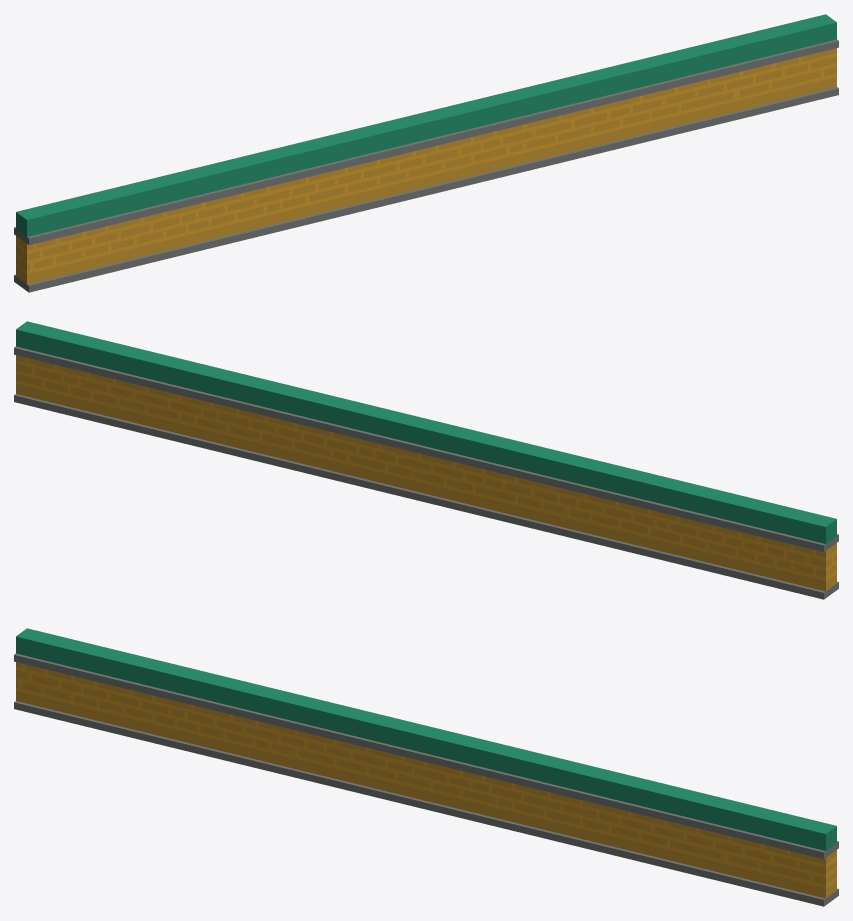
File: Pared 2.glb
3 renders of one model, top to bottom at view 1: azimuth 30°, elevation 25°; view 2: azimuth 150°, elevation 25°; view 3: azimuth 330°, elevation 25°, orthographic.
Parts seen in each view (by area): view 1: paredes.001; view 2: paredes.001; view 3: paredes.001.
Boxes of the visible parts, left/top/right/bottom form: paredes.001: left=14, top=14, right=838, bottom=292; paredes.001: left=14, top=321, right=838, bottom=599; paredes.001: left=14, top=628, right=838, bottom=906.
Size of what is drawn, in the model's own units: 25 by 2.1 by 0.8.
Materials: 1 (1 with a texture image).
